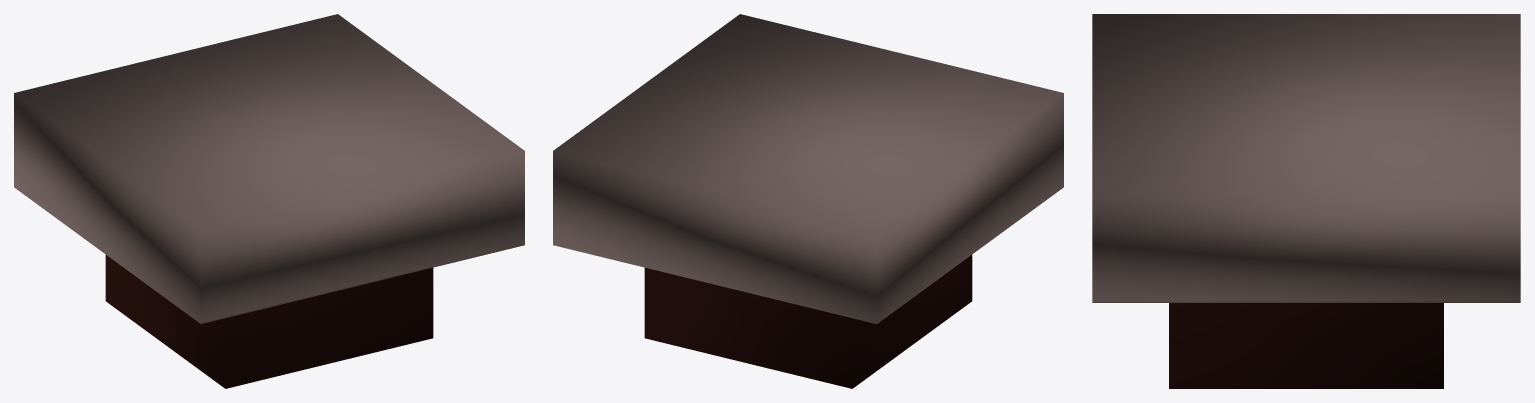
Rendered from table.obj.
The picture shows the model from 3 angles, left to right: view 1: azimuth 30°, elevation 25°; view 2: azimuth 150°, elevation 25°; view 3: azimuth 270°, elevation 25°; orthographic projection. The views are drawn at different scales.
Parts seen in each view (by area): view 1: table; view 2: table; view 3: table.
Boxes of the visible parts, x1,y1,x2,y2 form: table: [14, 14, 524, 388]; table: [553, 14, 1063, 388]; table: [1092, 14, 1520, 388].
Size of the model in its own units: 1 by 0.5836 by 1.
Materials: 1 (1 with a texture image).
